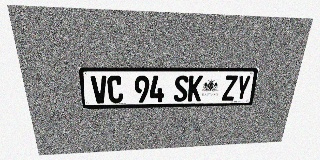4: (150, 76, 164, 102)
9: (134, 76, 149, 103)
C: (107, 76, 123, 103)
K: (187, 75, 203, 101)
S: (174, 75, 189, 102)
V: (90, 76, 108, 104)
Y: (235, 75, 251, 100)
Z: (222, 75, 238, 101)
